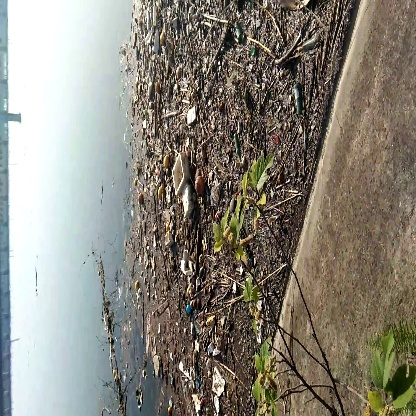plastic-garbage: (167, 150, 200, 214)
